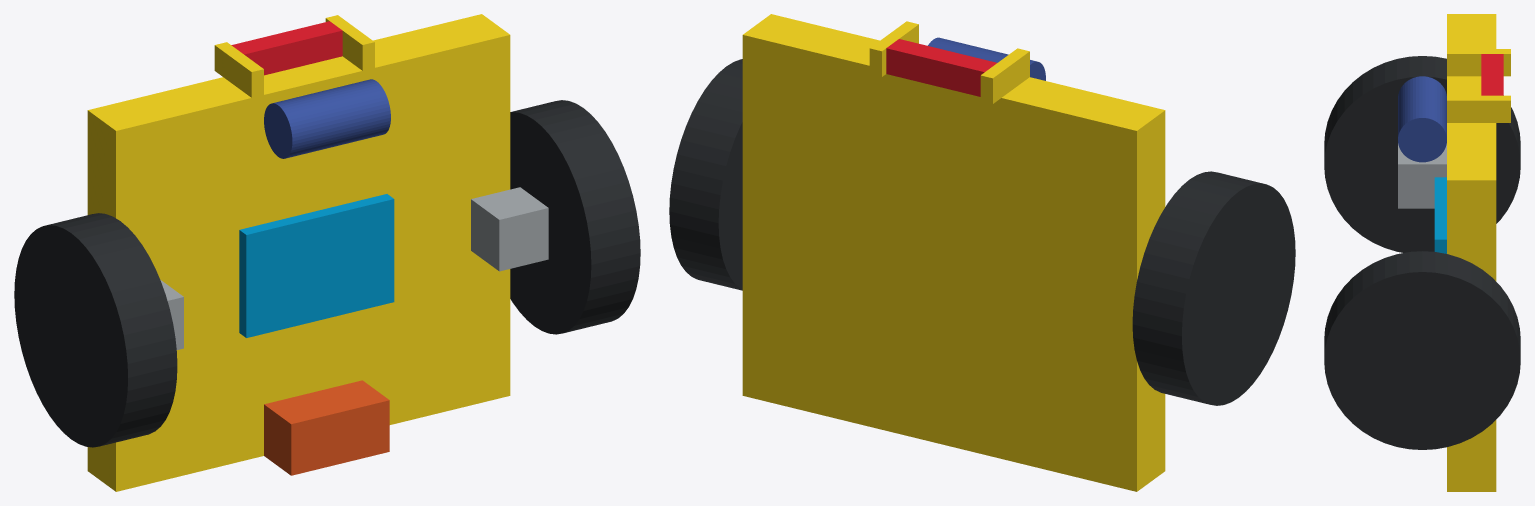
Rendered from tinker.obj.
3 renders of one model, left to right at view 1: azimuth 30°, elevation 25°; view 2: azimuth 150°, elevation 25°; view 3: azimuth 270°, elevation 25°, orthographic. The views are drawn at different scales.
Parts seen in each view (by area): view 1: obj_0, obj_2, obj_1, obj_6, obj_5, obj_8, obj_4, obj_7, obj_9, obj_10, obj_3; view 2: obj_0, obj_2, obj_1, obj_7, obj_9, obj_10, obj_8; view 3: obj_1, obj_2, obj_0, obj_8, obj_3, obj_10, obj_9, obj_6, obj_7.
Part boxes in pixels (bbox=[...]): obj_0: bbox=[87, 14, 510, 491]; obj_2: bbox=[14, 213, 177, 447]; obj_1: bbox=[510, 100, 640, 334]; obj_6: bbox=[239, 194, 394, 337]; obj_5: bbox=[264, 380, 389, 475]; obj_8: bbox=[264, 79, 390, 158]; obj_4: bbox=[471, 187, 548, 271]; obj_7: bbox=[231, 21, 342, 75]; obj_9: bbox=[214, 42, 263, 97]; obj_10: bbox=[325, 15, 374, 70]; obj_3: bbox=[160, 280, 183, 349]; obj_0: bbox=[742, 14, 1165, 491]; obj_2: bbox=[1132, 171, 1295, 405]; obj_1: bbox=[669, 59, 742, 290]; obj_7: bbox=[886, 39, 996, 96]; obj_9: bbox=[980, 48, 1029, 103]; obj_10: bbox=[869, 21, 918, 76]; obj_8: bbox=[928, 37, 1045, 80]; obj_1: bbox=[1324, 251, 1520, 449]; obj_2: bbox=[1324, 56, 1520, 252]; obj_0: bbox=[1447, 14, 1496, 491]; obj_8: bbox=[1398, 76, 1446, 162]; obj_3: bbox=[1398, 143, 1446, 208]; obj_10: bbox=[1447, 95, 1510, 122]; obj_9: bbox=[1447, 49, 1510, 76]; obj_6: bbox=[1434, 177, 1446, 253]; obj_7: bbox=[1481, 54, 1503, 95].
Size of the model in its own units: 20.8 by 15 by 8.
